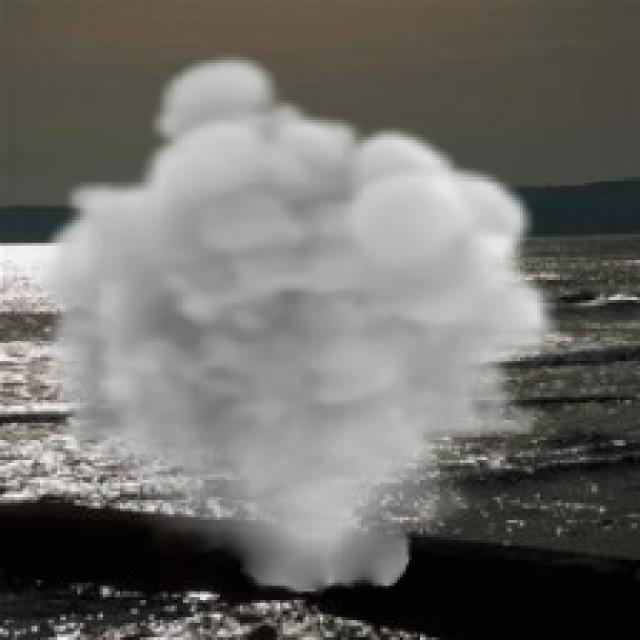Smoke: (28, 48, 563, 598)
